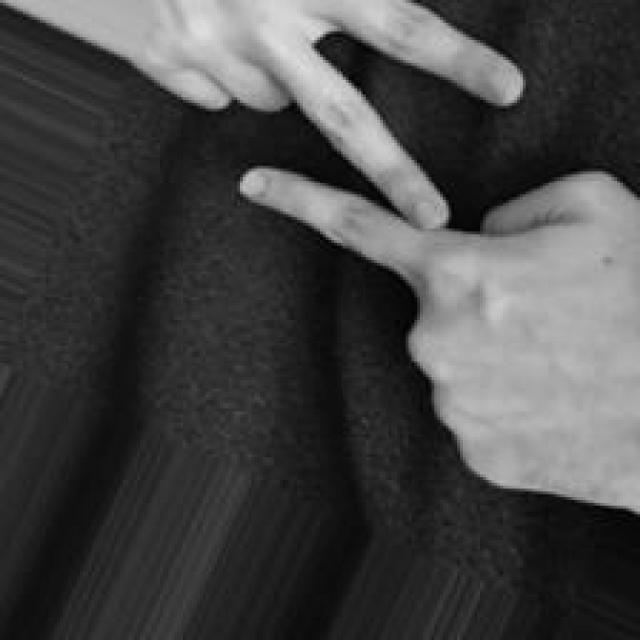Z: (165, 0, 640, 514)
